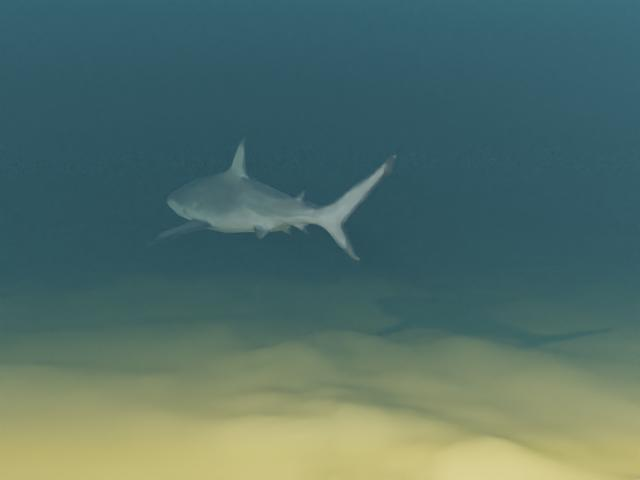Carribean Shark.001: (148, 137, 396, 261)
